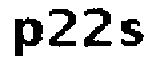2: (81, 6, 113, 52), (46, 8, 79, 52)
p: (10, 16, 45, 60)
s: (120, 17, 145, 51)
